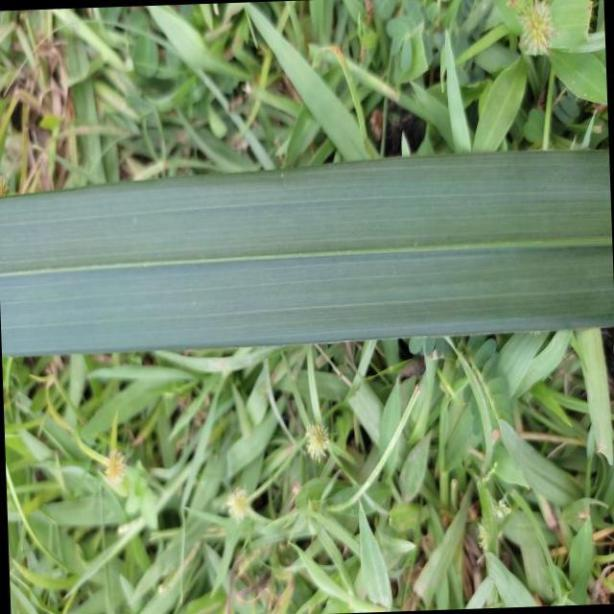Healthy: (0, 139, 613, 366)
